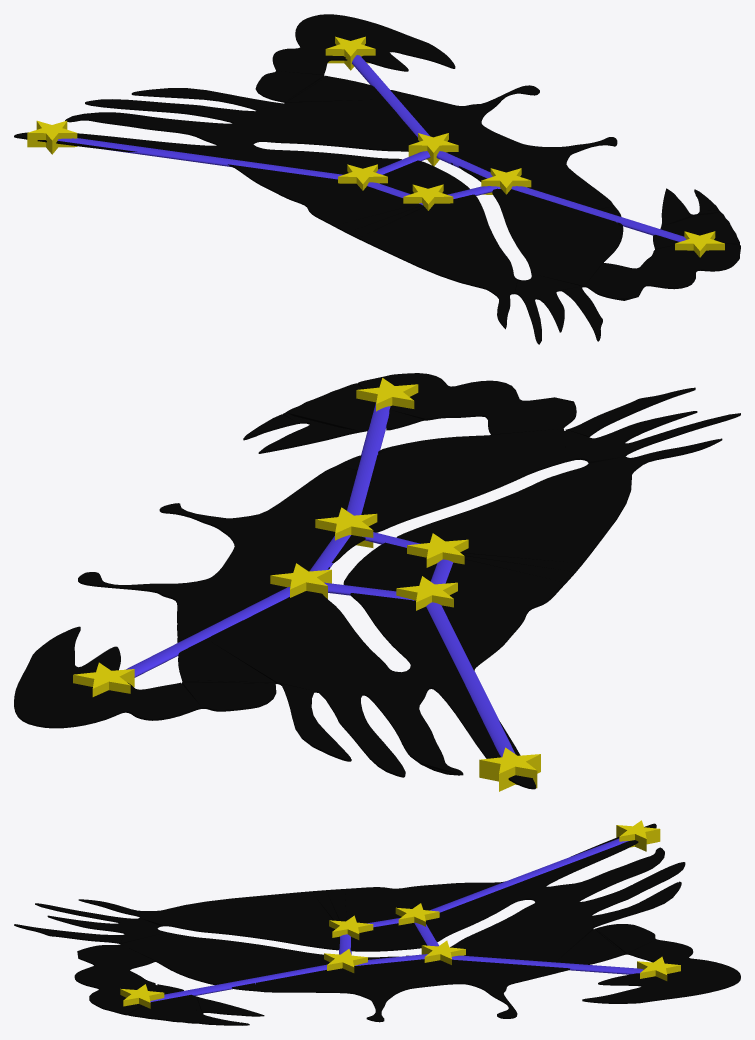
File: Kani-za.glb
3 renders of one model, top to bottom at view 1: azimuth 30°, elevation 25°; view 2: azimuth 150°, elevation 25°; view 3: azimuth 270°, elevation 25°, orthographic. The views are drawn at different scales.
Parts seen in each view (by area): view 1: トレース, 円柱.003, 円柱.017, 円柱.013, 円.007, 円, 円.018, 円.005, 円.002, 円.013, 円.015; view 2: トレース, 円柱.003, 円柱.013, 円柱.017, 円.007, 円.013, 円, 円.018, 円.005, 円.002, 円.015; view 3: トレース, 円柱.003, 円柱.013, 円柱.017, 円.007, 円.018, 円, 円.015, 円.002, 円.005, 円.013.
Part boxes in pixels (bbox=[...]): トレース: bbox=[14, 14, 740, 344]; 円柱.003: bbox=[57, 138, 343, 179]; 円柱.017: bbox=[511, 186, 686, 241]; 円柱.013: bbox=[352, 55, 430, 137]; 円.007: bbox=[27, 120, 77, 154]; 円: bbox=[325, 36, 375, 70]; 円.018: bbox=[408, 133, 458, 166]; 円.005: bbox=[675, 231, 724, 257]; 円.002: bbox=[403, 184, 453, 210]; 円.013: bbox=[481, 168, 531, 194]; 円.015: bbox=[338, 164, 387, 190]; トレース: bbox=[14, 373, 740, 789]; 円柱.003: bbox=[426, 602, 515, 757]; 円柱.013: bbox=[126, 587, 290, 677]; 円柱.017: bbox=[347, 402, 390, 515]; 円.007: bbox=[479, 747, 540, 791]; 円.013: bbox=[315, 507, 377, 547]; 円: bbox=[73, 662, 134, 696]; 円.018: bbox=[270, 563, 331, 598]; 円.005: bbox=[356, 378, 418, 411]; 円.002: bbox=[407, 533, 468, 567]; 円.015: bbox=[396, 576, 457, 610]; トレース: bbox=[14, 823, 740, 1025]; 円柱.003: bbox=[429, 838, 628, 912]; 円柱.013: bbox=[451, 955, 643, 974]; 円柱.017: bbox=[150, 964, 326, 1002]; 円.007: bbox=[616, 820, 660, 851]; 円.018: bbox=[421, 940, 465, 964]; 円: bbox=[637, 956, 680, 980]; 円.015: bbox=[395, 903, 439, 926]; 円.002: bbox=[329, 915, 373, 939]; 円.005: bbox=[120, 984, 164, 1008]; 円.013: bbox=[324, 949, 367, 972].
Bounding box in the file's own units: 30.12 × 0.8959 × 46.04.
